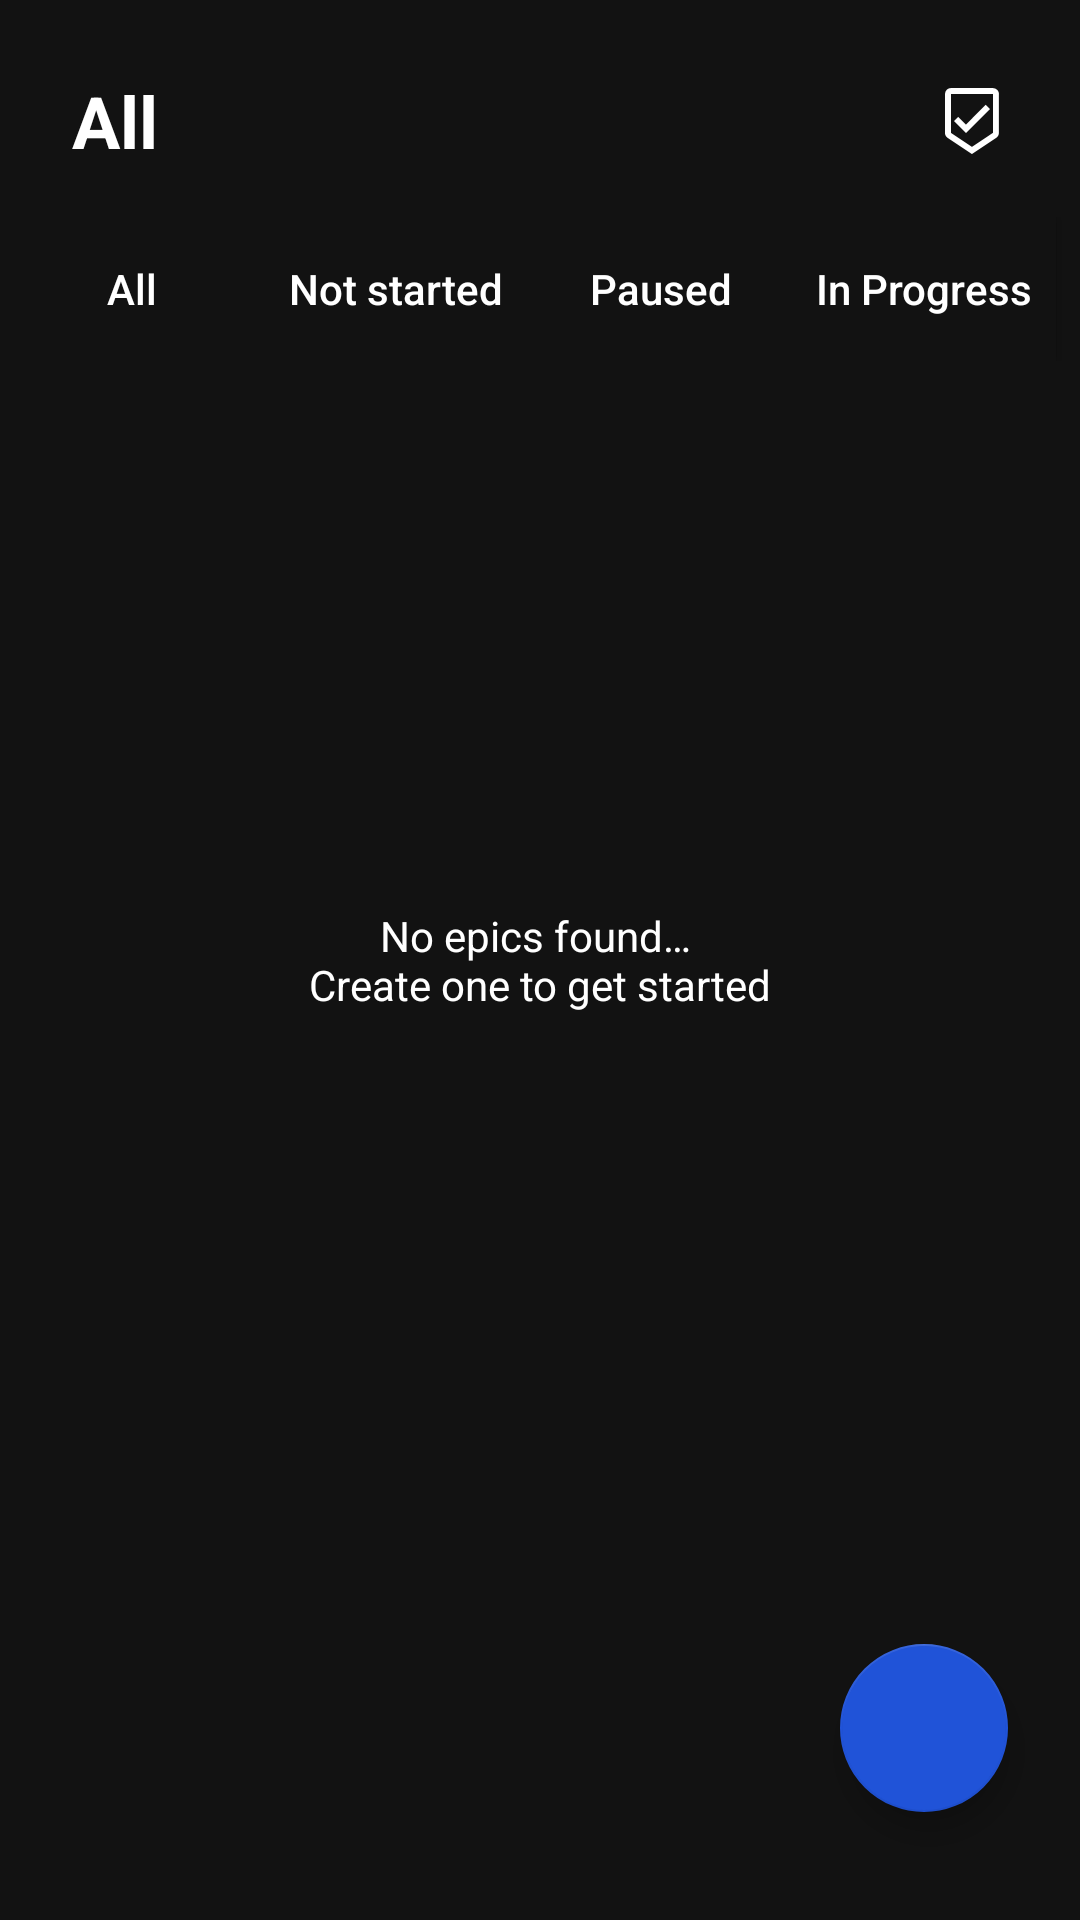

Locate icon controls on the screen. Image size 1080px x 1920px, boxes as (x1, y1, x2, y2).
Access completed epics: (945, 88, 999, 154)
